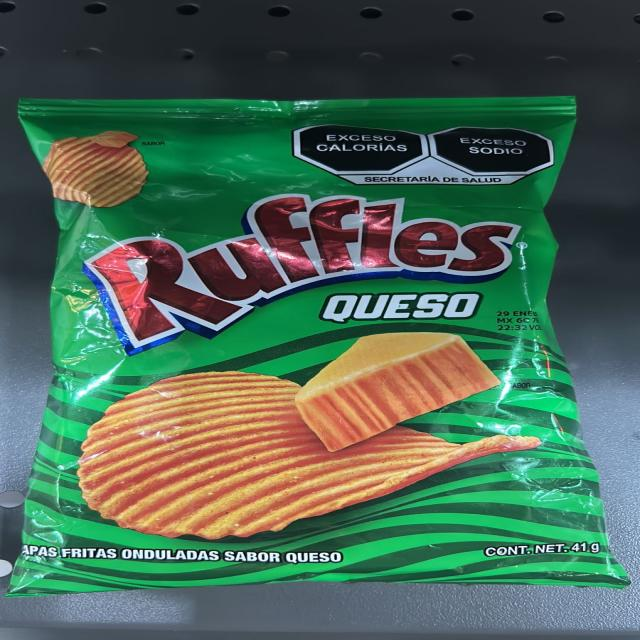rufflesQueso: (60, 110, 562, 568)
